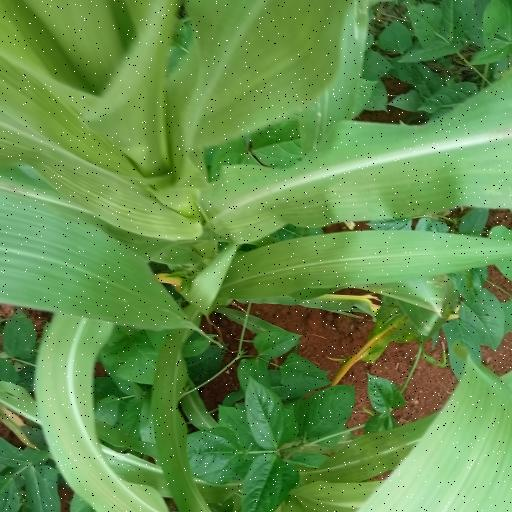Corn_Brown_Spots: (0, 0, 499, 281)
